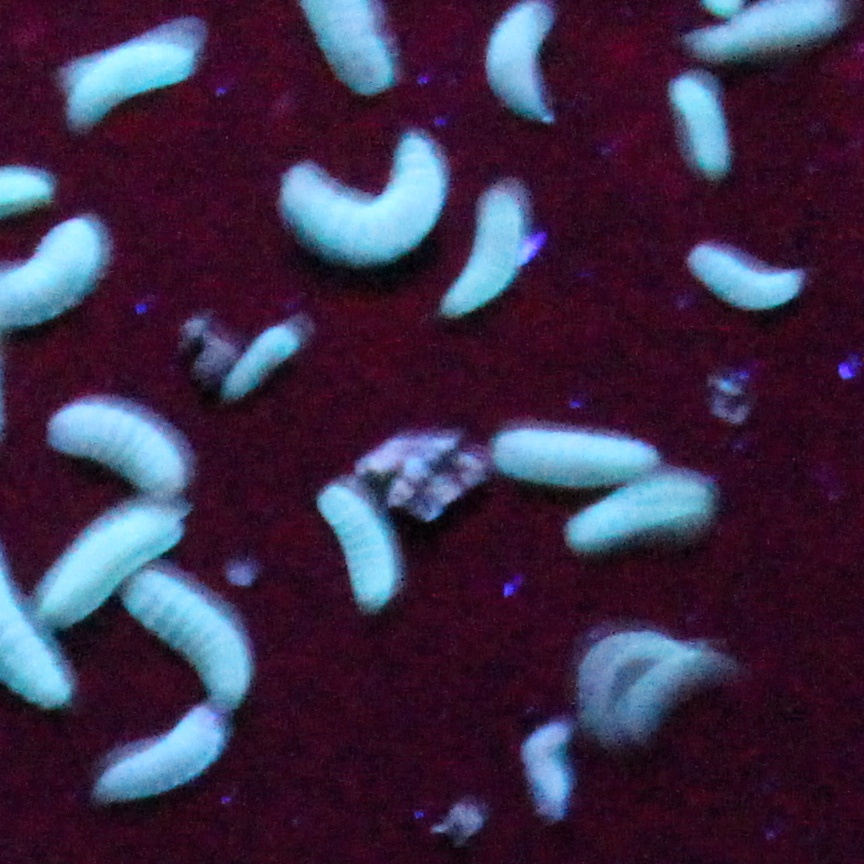larve: (282, 141, 444, 267), (125, 570, 249, 704), (39, 512, 181, 621), (50, 407, 181, 494), (440, 186, 521, 317), (100, 707, 223, 792), (68, 43, 192, 123), (567, 477, 709, 544), (318, 486, 395, 608), (494, 429, 661, 485), (579, 631, 684, 717), (688, 1, 842, 57), (487, 2, 554, 120), (688, 244, 799, 311), (669, 72, 729, 178), (627, 650, 722, 714), (226, 327, 299, 394)
